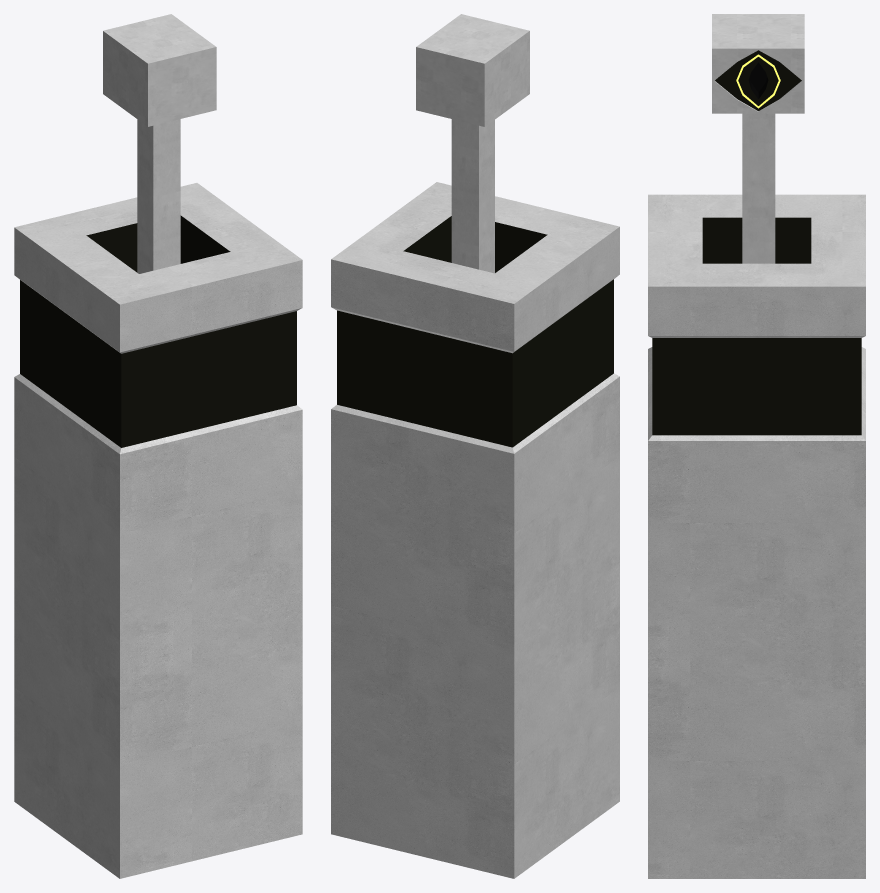
Rendered from spiral lighthouse tower_withSpotlightV2.fbx.
3 views of the same model, side by side, from view 1: azimuth 30°, elevation 25°; view 2: azimuth 150°, elevation 25°; view 3: azimuth 270°, elevation 25° (orthographic). The views are drawn at different scales.
Visible parts, largest first — view 1: Watch tower, Watchtower spotlight, Box002; view 2: Watch tower, Watchtower spotlight, Box002; view 3: Watch tower, Watchtower spotlight, Box002.
Part boxes in pixels (box(x1,y1,x2,y2)): Watch tower: box(14, 183, 302, 878); Watchtower spotlight: box(103, 14, 216, 126); Box002: box(137, 119, 180, 273); Watch tower: box(331, 182, 619, 878); Watchtower spotlight: box(416, 14, 529, 126); Box002: box(451, 119, 494, 273); Watch tower: box(648, 194, 865, 878); Watchtower spotlight: box(712, 14, 804, 113); Box002: box(742, 113, 775, 263).
Bounding box in the file's own units: 100 × 406 × 100.
4 materials, 1 textured.
